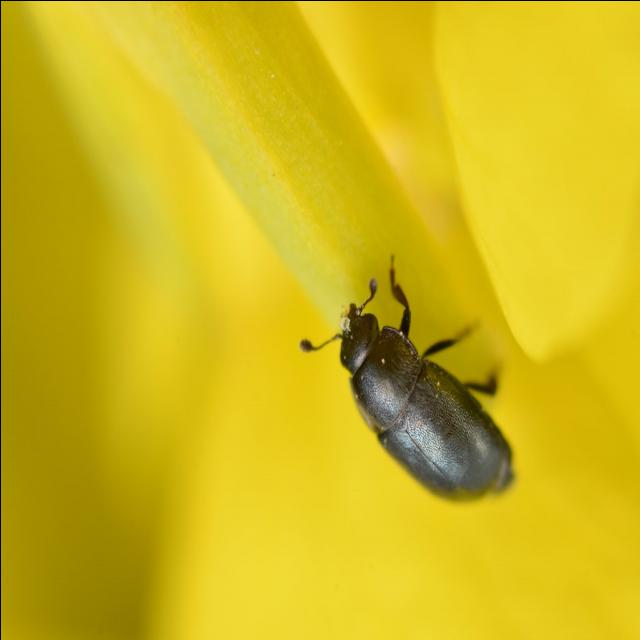pollen_beetle: (294, 250, 526, 528)
